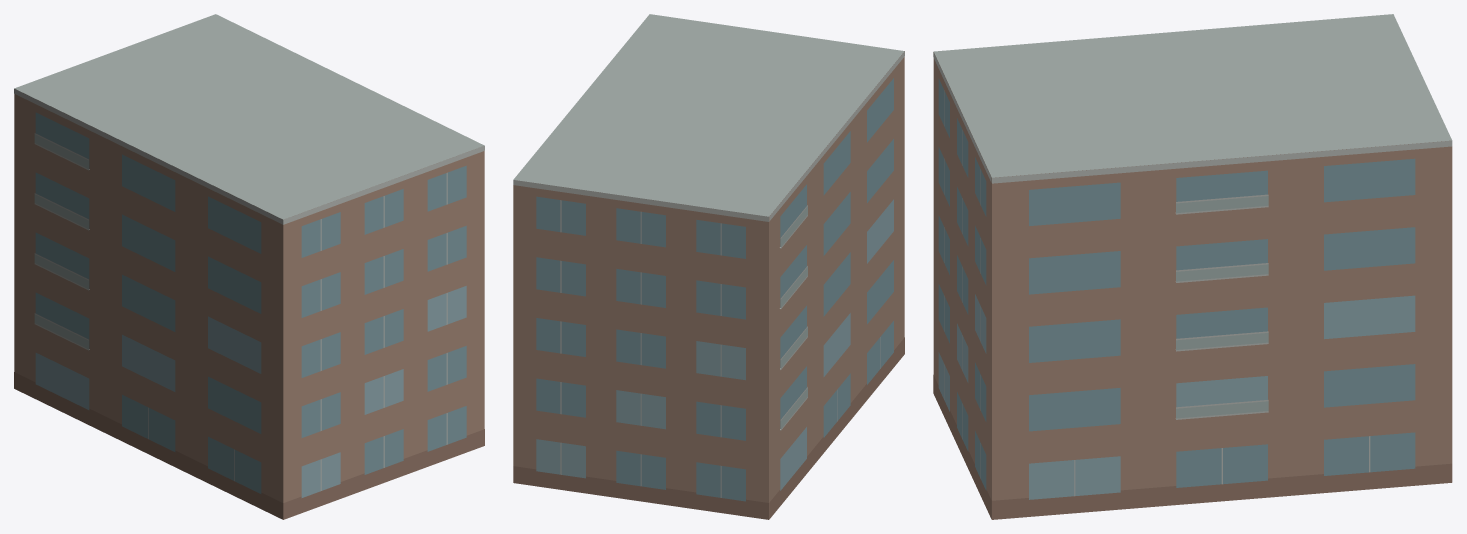
The model's file is survey-upis-32996455.glb.
The picture shows the model from 3 angles, left to right: view 1: azimuth 30°, elevation 25°; view 2: azimuth 150°, elevation 25°; view 3: azimuth 270°, elevation 25°; orthographic projection. The views are drawn at different scales.
Visible parts, largest first — view 1: survey-upis-32996455.tmp; view 2: survey-upis-32996455.tmp; view 3: survey-upis-32996455.tmp.
Part boxes in pixels (<box>): survey-upis-32996455.tmp: <box>14,14,484,519</box>; survey-upis-32996455.tmp: <box>513,14,904,519</box>; survey-upis-32996455.tmp: <box>933,14,1452,519</box>.
Bounding box in the file's own units: 14.48 × 14.1 × 19.39.
